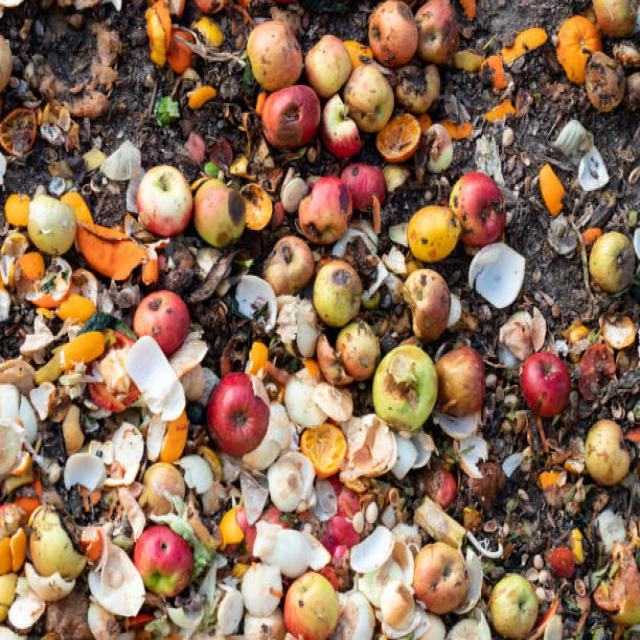trash: (16, 24, 603, 583)
